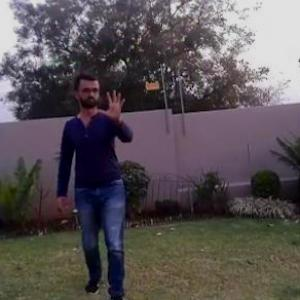follow_hand: (96, 86, 128, 120)
